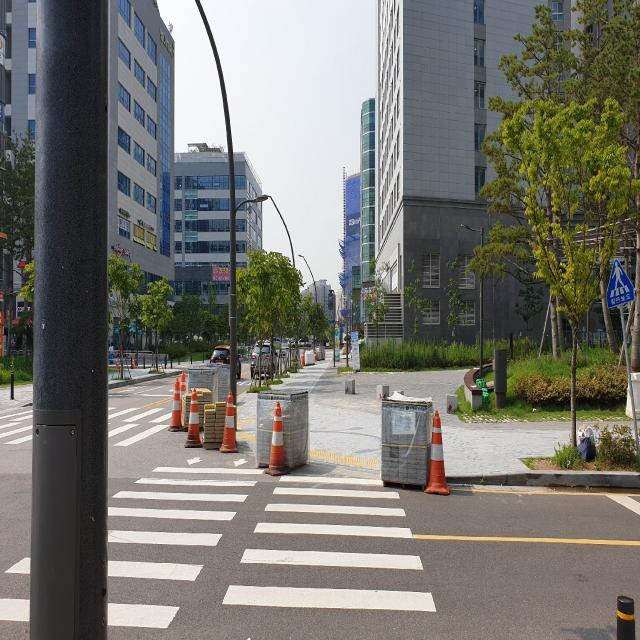횡단보도: (0, 455, 439, 634), (105, 393, 187, 450)
